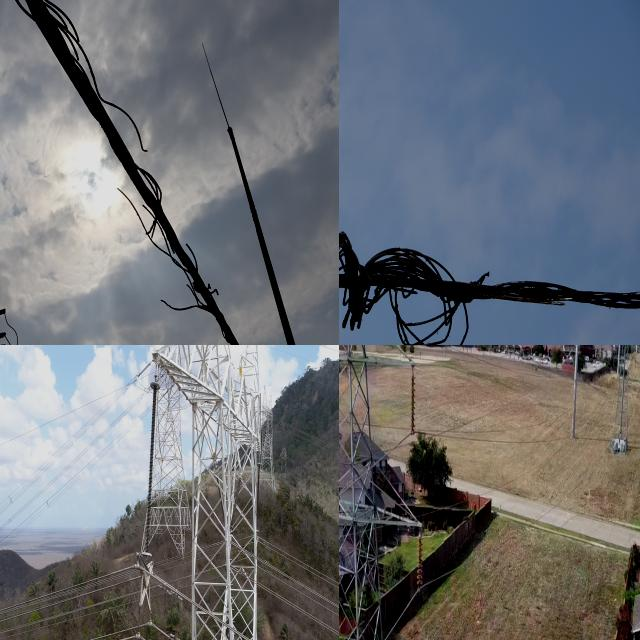杆塔: (157, 345, 262, 640), (339, 345, 431, 640), (605, 345, 638, 455)
正常电缆: (0, 561, 127, 616), (0, 387, 107, 451), (266, 581, 339, 640), (69, 618, 149, 640)
正常绝缘子: (141, 381, 161, 559), (413, 525, 428, 600), (408, 365, 420, 440), (254, 461, 261, 534)
电缆破损: (0, 0, 243, 345), (339, 222, 638, 345)
